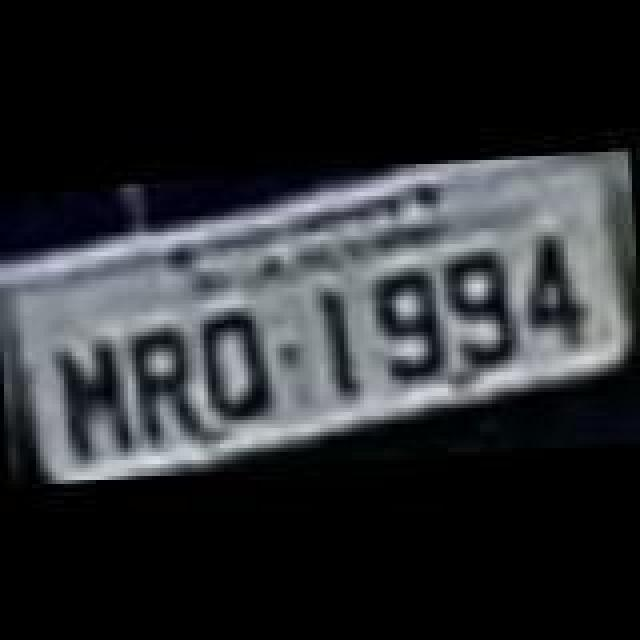1: (314, 278, 366, 394)
4: (520, 236, 600, 356)
9: (438, 240, 522, 368), (370, 264, 446, 384)
M: (58, 336, 142, 464)
O: (198, 306, 274, 430)
R: (130, 320, 206, 448)
